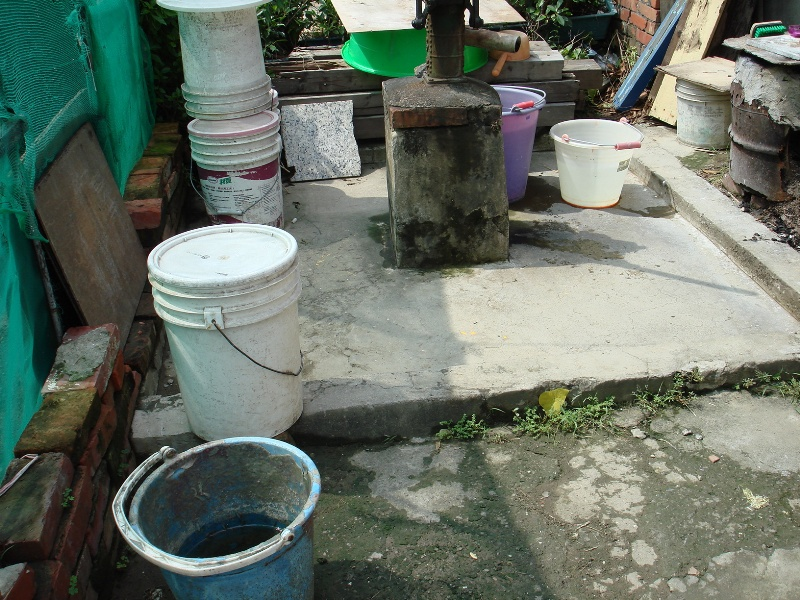bowl: (340, 29, 488, 79)
bucket: (146, 221, 307, 446), (110, 435, 322, 600), (186, 107, 286, 230), (175, 8, 277, 122), (547, 116, 644, 210), (488, 83, 546, 202), (675, 76, 731, 151)
